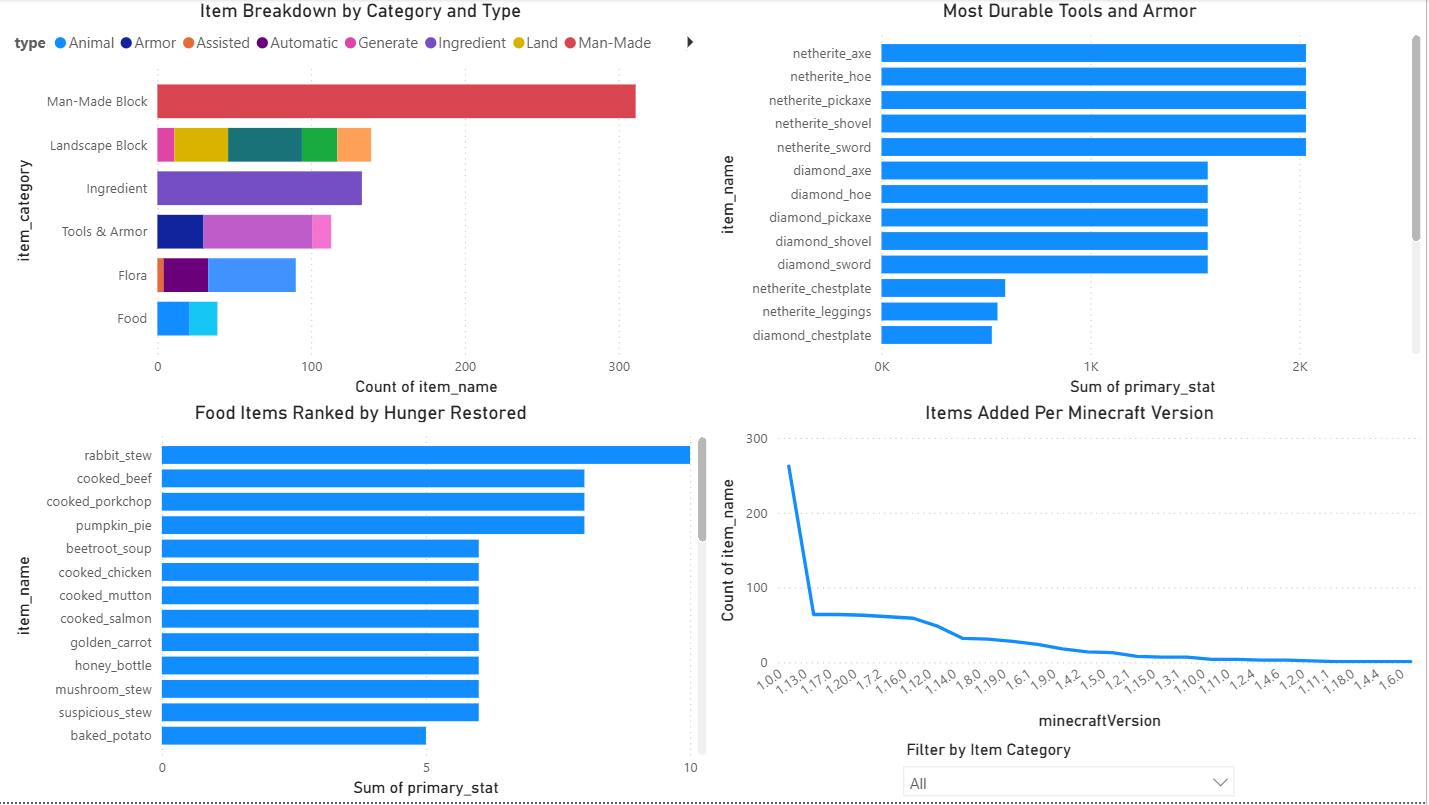

The page's visual inventory and layout, read from the dashboard file:
{"tool":"powerbi","page":{"name":"Item Catalog","canvas":[1280,720],"ordinal":3},"visuals":[{"type":"barChart","title":"Item Breakdown by Category and Type","fields":{"Category":["all_items_combined.item_category"],"Y":["Count(all_items_combined.item_name)"],"Series":["all_items_combined.type"]},"box":[10.2,0,630.4,360.4],"z":0},{"type":"clusteredBarChart","title":"Most Durable Tools and Armor","fields":{"Category":["all_items_combined.item_name"],"Y":["Sum(all_items_combined.primary_stat)"]},"box":[640.6,0,639.4,360.4],"z":1},{"type":"clusteredBarChart","title":"Food Items Ranked by Hunger Restored","fields":{"Category":["all_items_combined.item_name"],"Y":["Sum(all_items_combined.primary_stat)"]},"box":[10.2,360.4,630.4,359.2],"z":2},{"type":"lineChart","title":"Items Added Per Minecraft Version","fields":{"Category":["all_items_combined.minecraftVersion"],"Y":["Count(all_items_combined.item_name)"]},"box":[640.6,360.4,639.4,299.3],"z":3},{"type":"slicer","fields":{"Values":["all_items_combined.item_category"]},"box":[801.1,659.7,317.1,59.9],"z":4}]}

Visuals, with their boxes in screenshot pixels (x1, y1, x2, y2), scaled from the page's 1280x720 canvas onto the 1429x805 screenshot:
"Item Breakdown by Category and Type" barChart: {"x1": 11, "y1": 0, "x2": 715, "y2": 403}
"Most Durable Tools and Armor" clusteredBarChart: {"x1": 715, "y1": 0, "x2": 1428, "y2": 403}
"Food Items Ranked by Hunger Restored" clusteredBarChart: {"x1": 11, "y1": 403, "x2": 715, "y2": 804}
"Items Added Per Minecraft Version" lineChart: {"x1": 715, "y1": 403, "x2": 1428, "y2": 738}
slicer - all_items_combined.item_category: {"x1": 894, "y1": 738, "x2": 1248, "y2": 804}
